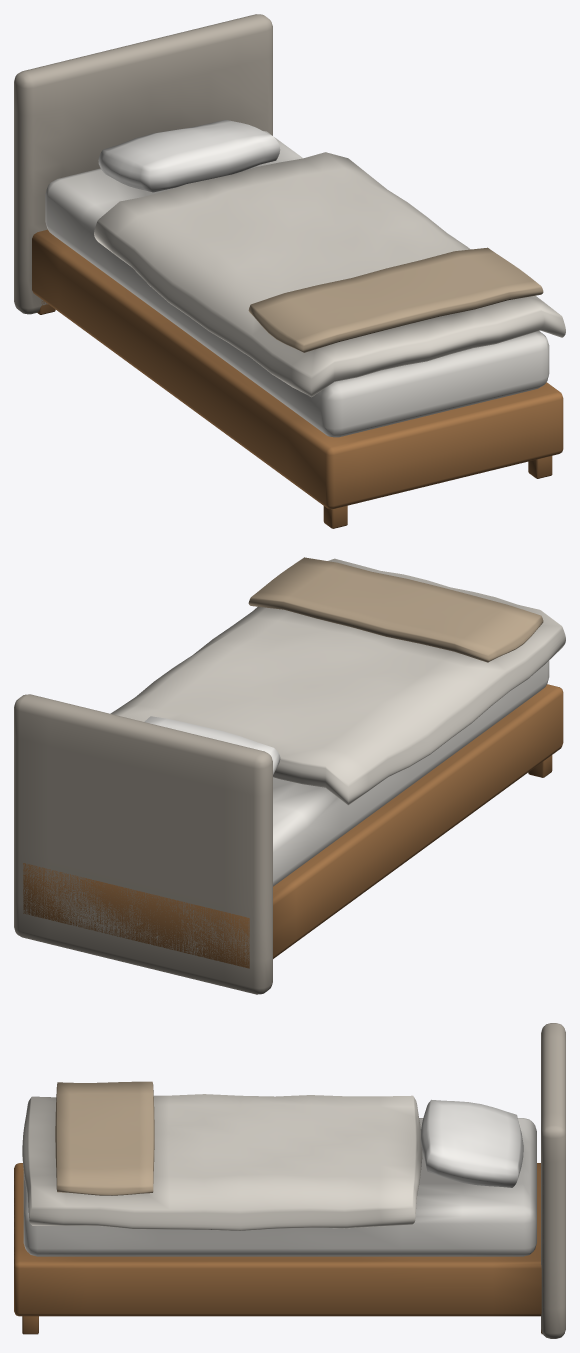
File: lit90.glb
The picture shows the model from 3 angles, top to bottom: view 1: azimuth 30°, elevation 25°; view 2: azimuth 150°, elevation 25°; view 3: azimuth 270°, elevation 25°; orthographic projection. The views are drawn at different scales.
Visible parts, largest first — view 1: couette, cadre, tete, matelas, plaid, oreillers; view 2: tete, couette, cadre, plaid, matelas, oreillers; view 3: couette, cadre, matelas, plaid, tete, oreillers.
Part boxes in pixels (x1,y1,x2,y2): couette: (94,152,565,397); cadre: (32,229,563,528); tete: (14,14,272,314); matelas: (45,130,549,437); plaid: (248,247,543,352); oreillers: (98,119,280,192); tete: (14,694,272,994); couette: (110,558,565,805); cadre: (23,684,563,968); plaid: (248,557,543,662); matelas: (273,660,549,886); oreillers: (144,716,280,774); couette: (22,1094,422,1230); cadre: (14,1163,542,1334); matelas: (23,1118,536,1256); plaid: (55,1081,154,1195); tete: (541,1023,565,1338); oreillers: (420,1099,523,1187).
Size of the model in its own units: 0.979 by 0.85 by 2.
